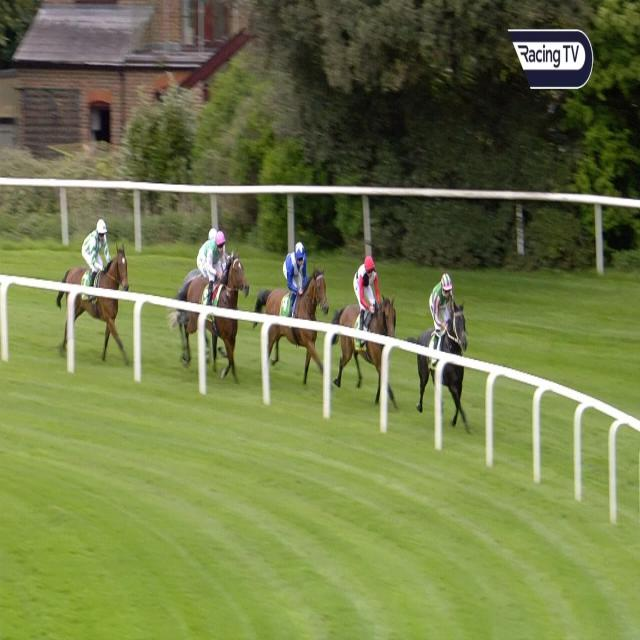horses-racing: (63, 219, 130, 363), (184, 230, 248, 369), (265, 238, 326, 378), (336, 255, 397, 391), (417, 275, 470, 421), (188, 224, 219, 277)
